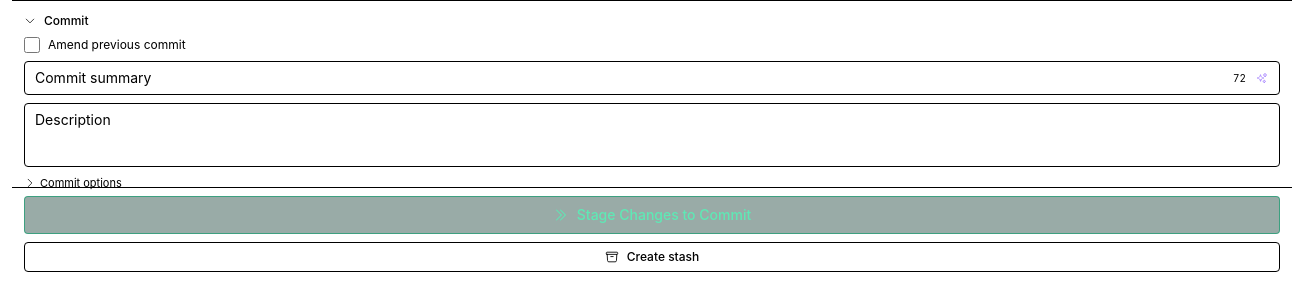
Scenario: CommitPanel › fills the summary with AI
Click the button named "fill summary" at (1262, 78), box 1252,68 -> 1272,88
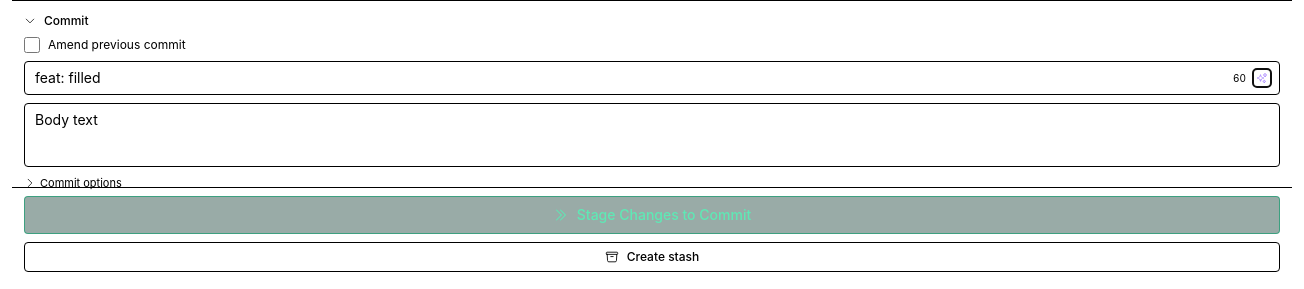
Expected: the field with placeholder "Commit summary" holds "feat: filled", 24,61 -> 1280,95
Expected: the text box with placeholder "Description" holds "Body text", 24,103 -> 1280,167
